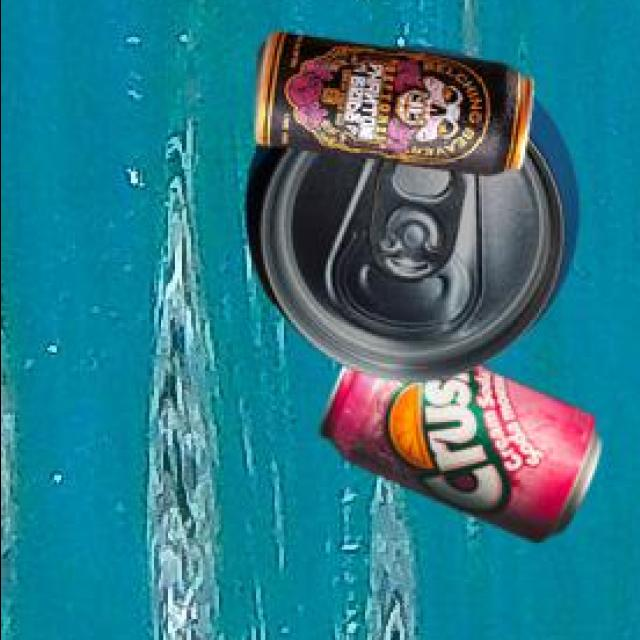logam: (242, 50, 574, 384), (314, 370, 597, 546), (249, 34, 528, 180)
